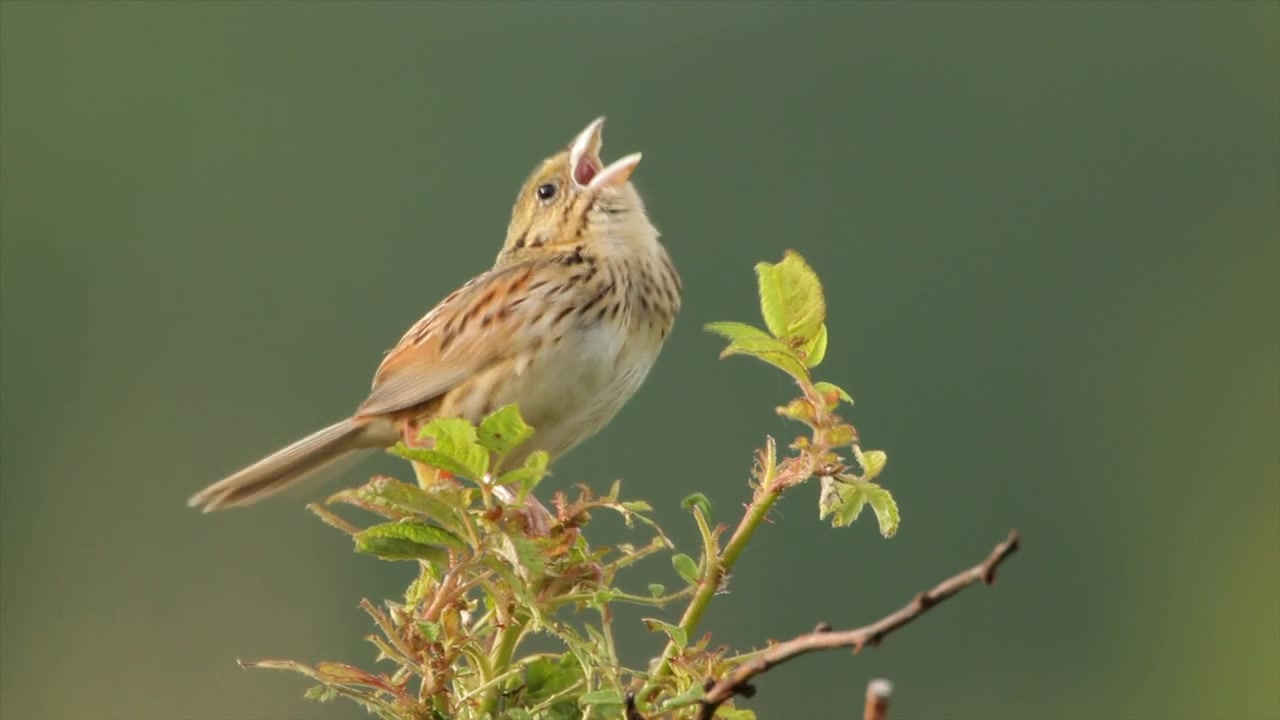bird: (187, 117, 685, 536)
